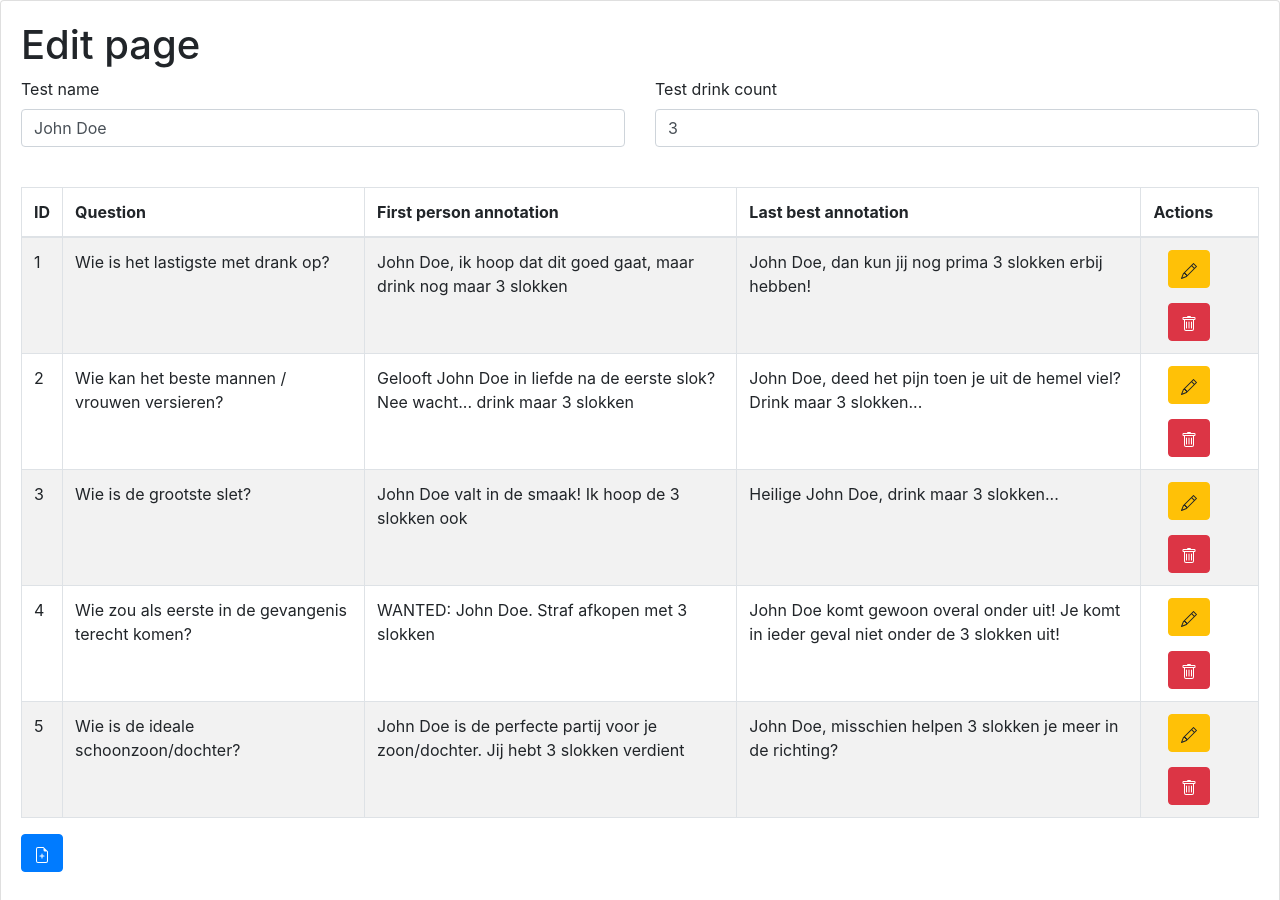
Test case: question form is shown when clicked on new quesiton
Click the button with test id "new-question".
click(42, 853)  # box [21,834,63,872]
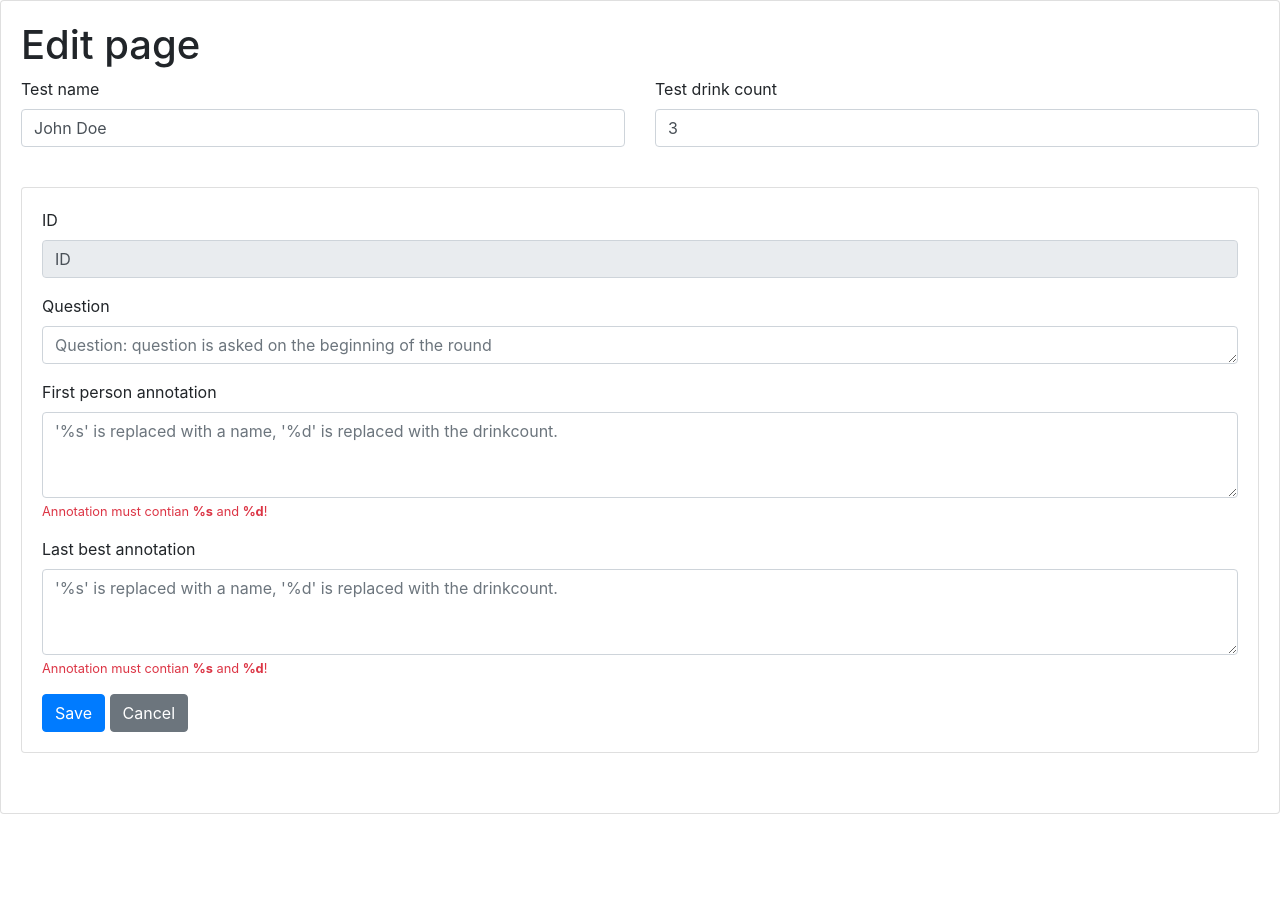
Expected: the element with test id "question-form-page" is shown
